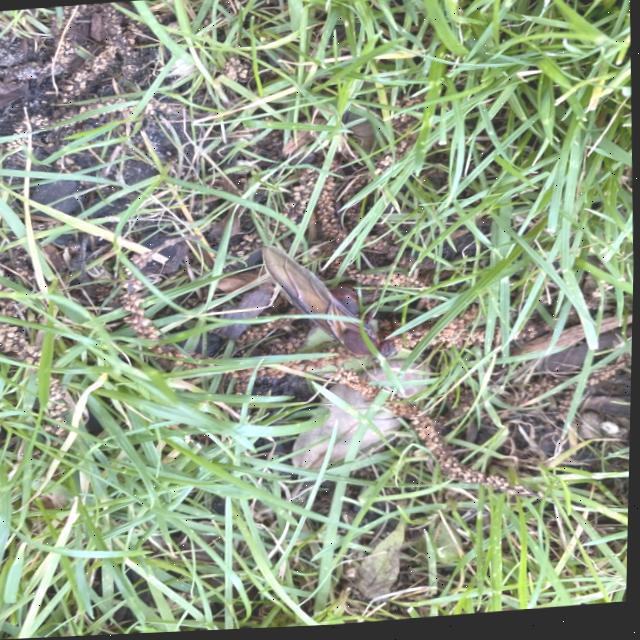Alive-Female-Alate: (260, 235, 428, 386)
